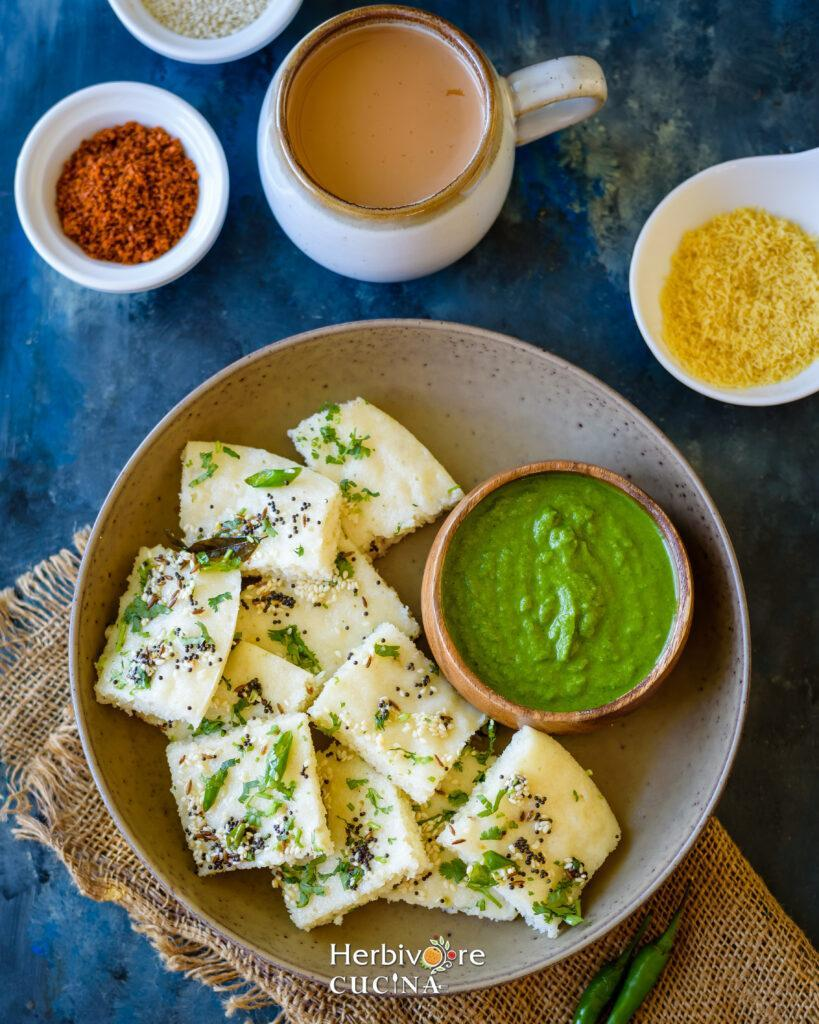dhokla: (115, 414, 410, 912), (440, 696, 645, 970)
